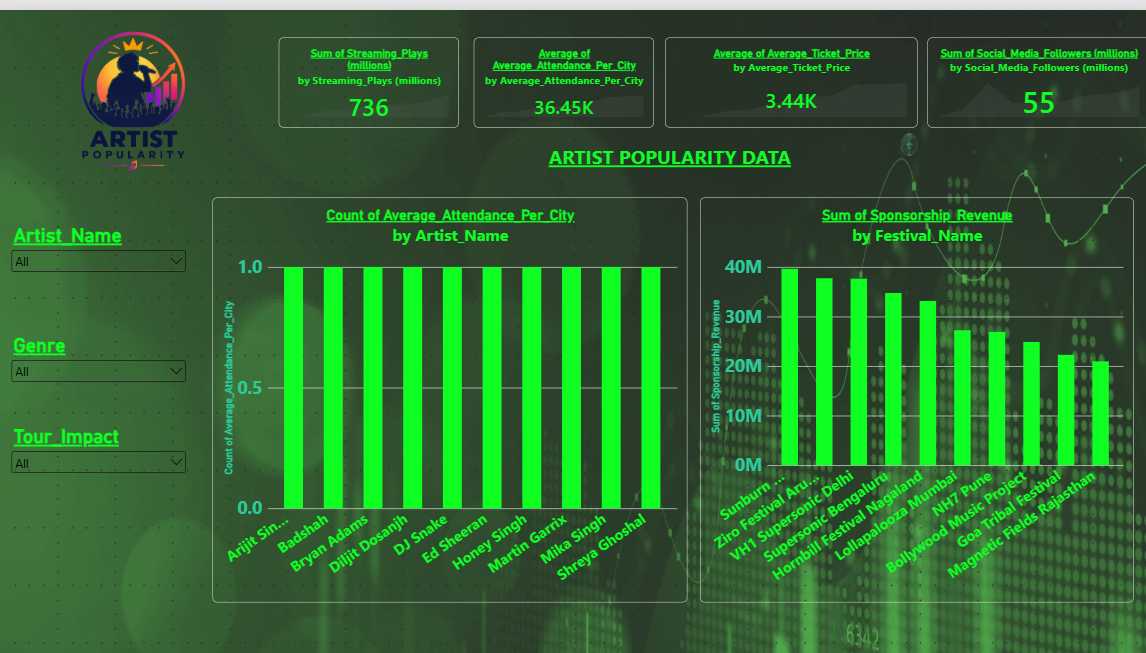

The dashboard page shown, as its layout file describes it:
{"tool":"powerbi","page":{"name":"Page 2","canvas":[1920,1080],"ordinal":1},"visuals":[{"type":"clusteredColumnChart","fields":{"Category":["Music_Festival_Data.Festival_Name"],"Y":["Sum(Music_Festival_Data.Sponsorship_Revenue)"]},"box":[1168.7,313,724.2,455],"z":0},{"type":"clusteredColumnChart","fields":{"Category":["Artist_Popularity_Data.Artist_Name"],"Y":["CountNonNull(Artist_Popularity_Data.Average_Attendance_Per_City)"]},"box":[354.8,313,793,455],"z":1000},{"type":"slicer","fields":{"Values":["Artist_Popularity_Data.Genre"]},"box":[14.6,540.5,300.5,110.6],"z":2000},{"type":"slicer","fields":{"Values":["Artist_Popularity_Data.Tour_Impact"]},"box":[14.6,692.9,300.5,102.3],"z":3000},{"type":"kpi","fields":{"Indicator":["Avg(Artist_Popularity_Data.Average_Attendance_Per_City)"],"TrendLine":["Artist_Popularity_Data.Average_Attendance_Per_City"]},"box":[791,45.9,301,150],"z":4000},{"type":"kpi","fields":{"Indicator":["Avg(Artist_Popularity_Data.Average_Ticket_Price)"],"TrendLine":["Artist_Popularity_Data.Average_Ticket_Price"]},"box":[1110.3,45.9,421.6,150.3],"z":5000},{"type":"kpi","fields":{"Indicator":["Sum(Artist_Popularity_Data.Social_Media_Followers (millions))"],"TrendLine":["Artist_Popularity_Data.Social_Media_Followers (millions)"]},"box":[1548.5,45.9,371.5,150.3],"z":6000},{"type":"kpi","fields":{"Indicator":["Sum(Artist_Popularity_Data.Streaming_Plays (millions))"],"TrendLine":["Artist_Popularity_Data.Streaming_Plays (millions)"]},"box":[465.4,45.9,301,150],"z":7000},{"type":"textbox","box":[14.6,267.1,475.8,60.5],"z":8000},{"type":"image","box":[14.6,0,415.3,252.5],"z":9000},{"type":"slicer","fields":{"Values":["Artist_Popularity_Data.Artist_Name"]},"box":[14.6,356.9,301,150],"z":9001}]}

Visuals, with their boxes in screenshot pixels (x1, y1, x2, y2), scaled from the page's 1920x1080 canvas onto the 1146x653 screenshot:
clusteredColumnChart - Music_Festival_Data.Festival_Name x Sum(Music_Festival_Data.Sponsorship_Revenue): x1=698 y1=189 x2=1130 y2=464
clusteredColumnChart - Artist_Popularity_Data.Artist_Name x CountNonNull(Artist_Popularity_Data.Average_Attendance_Per_City): x1=212 y1=189 x2=685 y2=464
slicer - Artist_Popularity_Data.Genre: x1=9 y1=327 x2=188 y2=394
slicer - Artist_Popularity_Data.Tour_Impact: x1=9 y1=419 x2=188 y2=481
kpi - Avg(Artist_Popularity_Data.Average_Attendance_Per_City) x Artist_Popularity_Data.Average_Attendance_Per_City: x1=472 y1=28 x2=652 y2=118
kpi - Avg(Artist_Popularity_Data.Average_Ticket_Price) x Artist_Popularity_Data.Average_Ticket_Price: x1=663 y1=28 x2=914 y2=119
kpi - Sum(Artist_Popularity_Data.Social_Media_Followers (millions)) x Artist_Popularity_Data.Social_Media_Followers (millions): x1=924 y1=28 x2=1145 y2=119
kpi - Sum(Artist_Popularity_Data.Streaming_Plays (millions)) x Artist_Popularity_Data.Streaming_Plays (millions): x1=278 y1=28 x2=457 y2=118
textbox: x1=9 y1=161 x2=293 y2=198
image: x1=9 y1=0 x2=257 y2=153
slicer - Artist_Popularity_Data.Artist_Name: x1=9 y1=216 x2=188 y2=306
